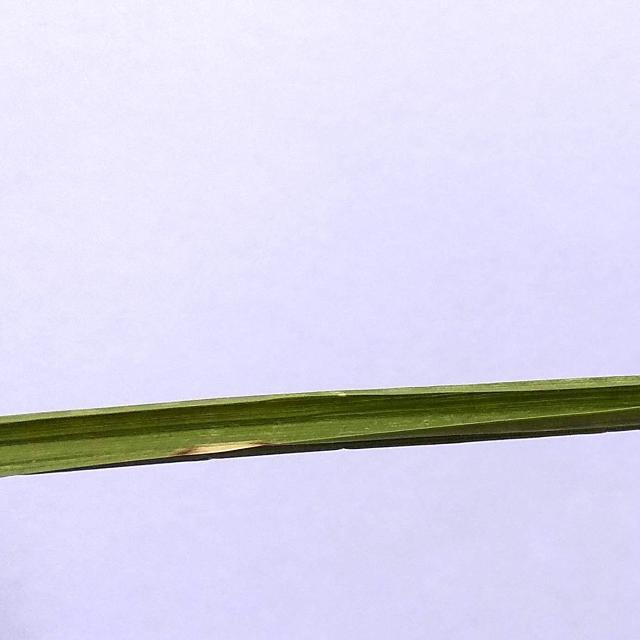Blast: (182, 442, 268, 457)
